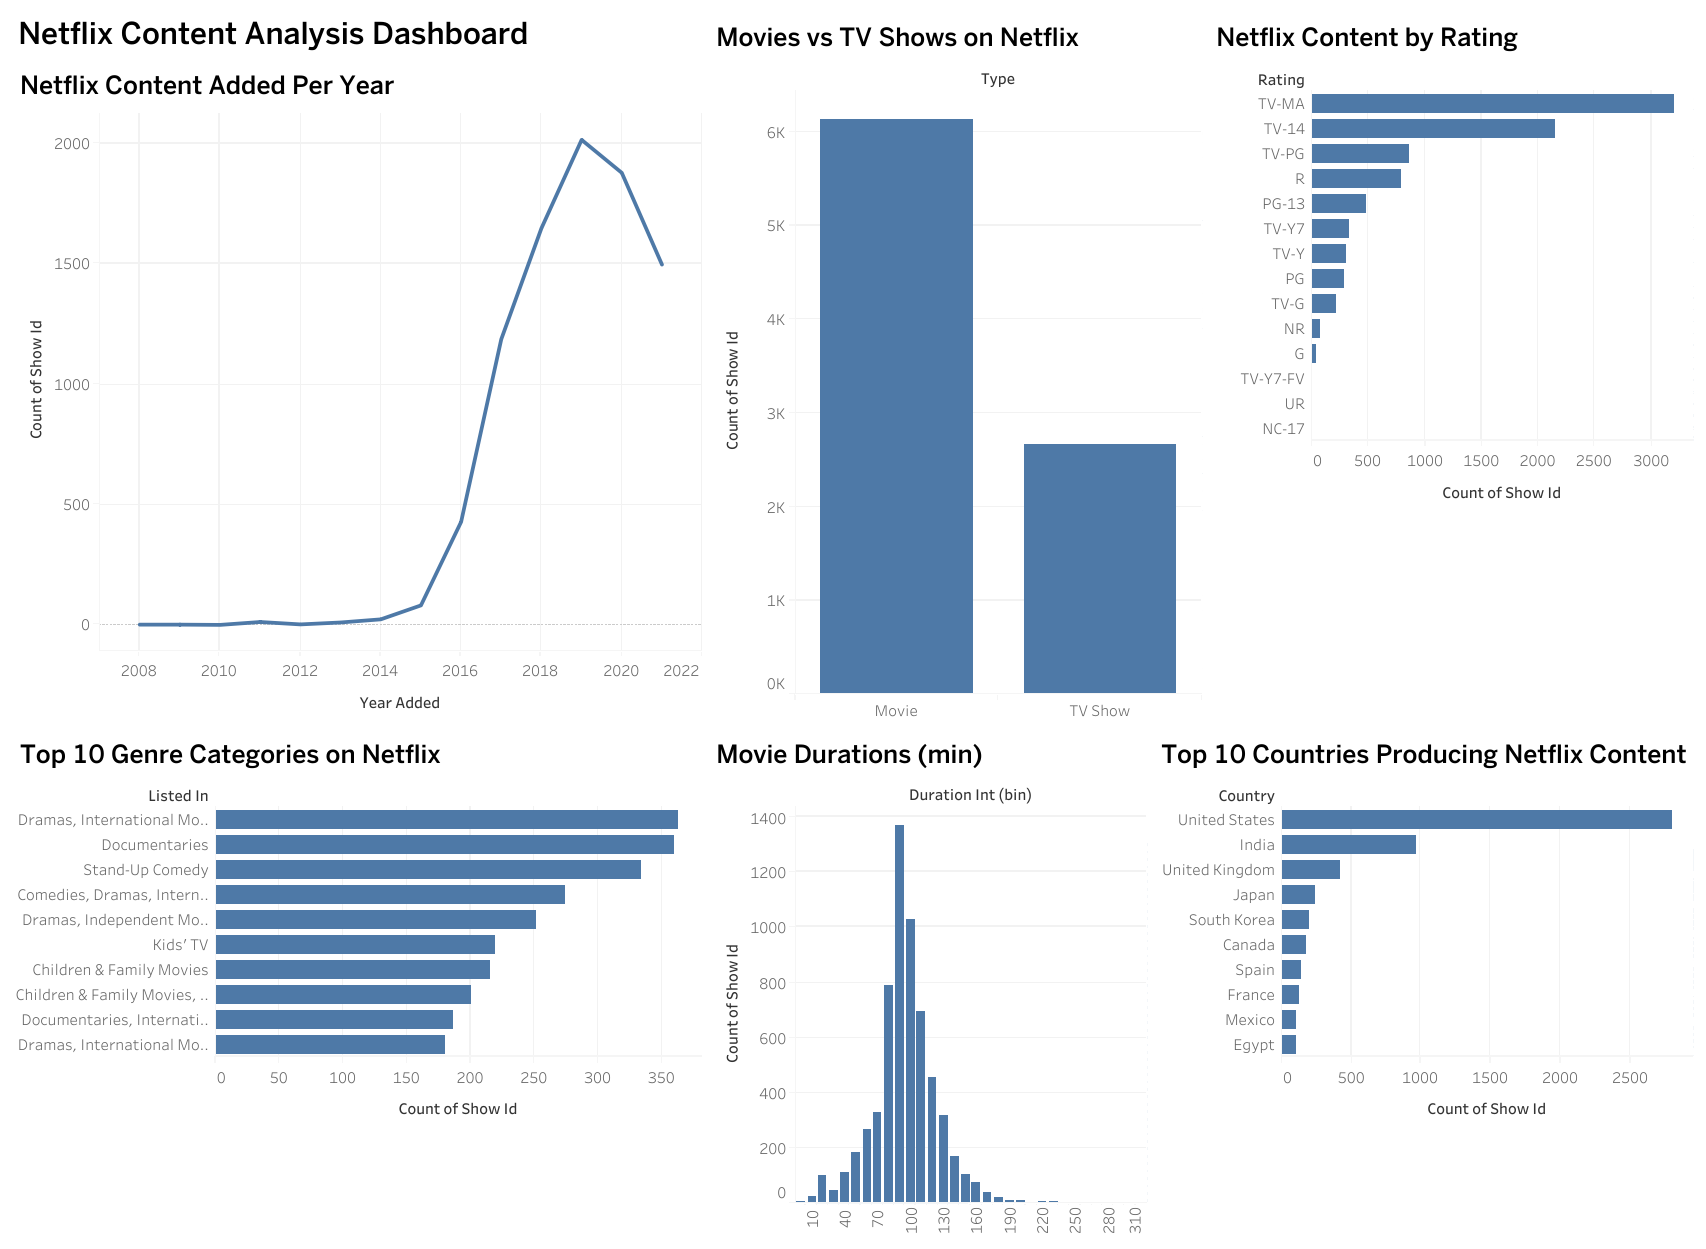

This screenshot's page, from the dashboard's own definition file:
{"tool":"tableau","page":{"name":"Netflix_Dashboard","canvas":[1366,1000],"ordinal":0},"visuals":[{"type":"title","box":[8,8,557,44]},{"type":"worksheet","title":"Chart1_MovieVsTV","mark":"Automatic","rows":["show_id"],"cols":["type"],"box":[565,8,400,573]},{"type":"worksheet","title":"Chart4_Rating","mark":"Automatic","rows":["rating"],"cols":["show_id"],"box":[965,8,393,573]},{"type":"worksheet","title":"Chart2_YearTrend","mark":"Automatic","rows":["show_id"],"cols":["year_added"],"box":[8,52,557,529]},{"type":"worksheet","title":"Chart6_Genres","mark":"Automatic","rows":["listed_in"],"cols":["show_id"],"box":[8,581,557,400]},{"type":"worksheet","title":"Chart5_Duration","mark":"Automatic","rows":["show_id"],"cols":["Duration Int (bin)"],"box":[565,581,356,411]},{"type":"worksheet","title":"Chart3_TopCountries","mark":"Automatic","rows":["country"],"cols":["show_id"],"box":[921,581,437,411]}]}

Visuals, with their boxes in screenshot pixels (x1, y1, x2, y2), scaled from the page's 1366x1000 canvas onto the 1706x1249 screenshot:
title: x1=10, y1=10, x2=706, y2=65
"Chart1_MovieVsTV" worksheet: x1=706, y1=10, x2=1205, y2=726
"Chart4_Rating" worksheet: x1=1205, y1=10, x2=1696, y2=726
"Chart2_YearTrend" worksheet: x1=10, y1=65, x2=706, y2=726
"Chart6_Genres" worksheet: x1=10, y1=726, x2=706, y2=1225
"Chart5_Duration" worksheet: x1=706, y1=726, x2=1150, y2=1239
"Chart3_TopCountries" worksheet: x1=1150, y1=726, x2=1696, y2=1239
